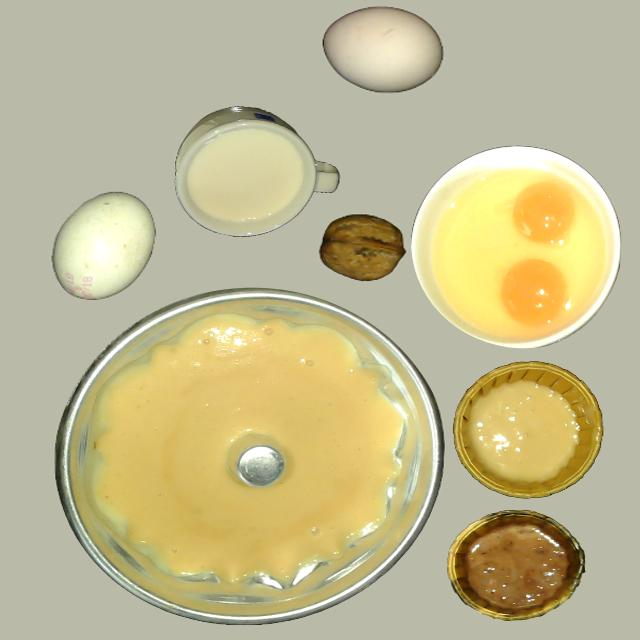Egg: (500, 259, 568, 325), (512, 181, 577, 244)
Milk: (191, 130, 298, 220)
Walnut: (320, 214, 404, 281)
